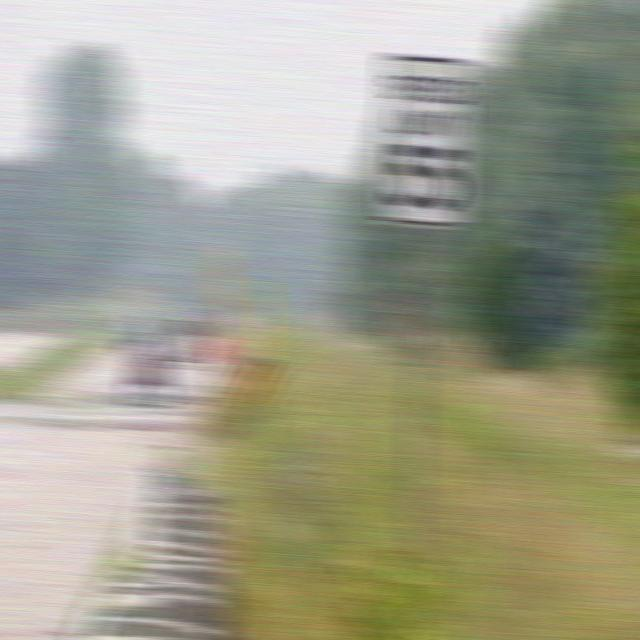speedLimit55: (377, 48, 470, 234)
